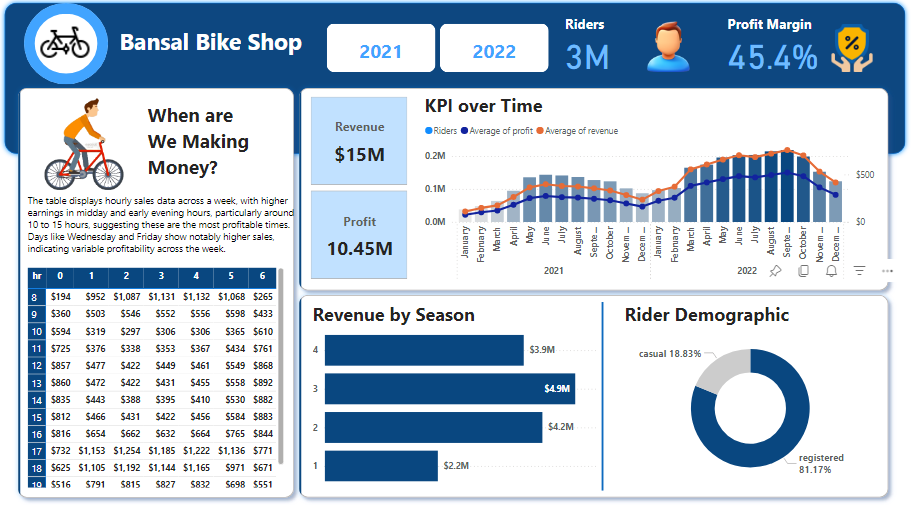

Layout of this report page (visuals, bound fields, positions):
{"tool":"powerbi","page":{"name":"Page 1","canvas":[1280,720],"ordinal":0},"visuals":[{"type":"shape","box":[0,0,1280,228.5],"z":0},{"type":"cardVisual","fields":{"Data":["Sum(Query1.riders)"]},"box":[10.1,110.9,421.6,609.8],"z":1000},{"type":"cardVisual","fields":{"Data":["Sum(Query1.riders)"]},"box":[404.6,110.9,861.1,318.2],"z":2000},{"type":"cardVisual","fields":{"Data":["Sum(Query1.riders)"]},"box":[404.6,401.8,861.1,318.2],"z":3000},{"type":"cardVisual","fields":{"Data":["Sum(Query1.riders)"]},"box":[20.2,110.9,207.4,180],"z":4000},{"type":"pivotTable","fields":{"Rows":["Query1.hr"],"Values":["Avg(Query1.revenue)"],"Columns":["Query1.weekday"]},"box":[35.3,374.6,369.6,319.2],"z":5000},{"type":"textbox","box":[203.3,141.1,201.6,119.3],"z":6000},{"type":"textbox","box":[35.3,270.4,396.4,104.1],"z":7000},{"type":"lineClusteredColumnComboChart","title":"KPI over Time","fields":{"Category":["Query1.dteday.Variation.Date Hierarchy.Year","Query1.dteday.Variation.Date Hierarchy.Month","Query1.dteday.Variation.Date Hierarchy.Day"],"Y":["Sum(Query1.riders)"],"Y2":["Avg(Query1.profit)","Avg(Query1.revenue)"]},"box":[593,134.4,643.4,272.1],"z":8000},{"type":"clusteredBarChart","title":"Revenue by Season","fields":{"Category":["Query1.season"],"Y":["Sum(Query1.revenue)"]},"box":[435.1,428.3,409.9,265.4],"z":9000},{"type":"donutChart","title":"Rider Demographic","fields":{"Y":["Sum(Query1.riders)"],"Category":["Query1.rider_type"]},"box":[873.5,428.3,362.8,265.4],"z":10000},{"type":"shape","box":[821.4,428.3,52.1,265.4],"z":11000},{"type":"cardVisual","title":"KPI over Time","fields":{"Data":["Sum(Query1.revenue)","Sum(Query1.profit)"]},"box":[431.7,134.4,146.1,267.1],"z":12000},{"type":"cardVisual","fields":{"Data":["Sum(Query1.riders)","Query1.Profit_Margin"]},"box":[777.7,8.4,458.6,102.5],"z":13000},{"type":"image","box":[1147.3,28.6,100.8,87.3],"z":14000},{"type":"shape","box":[35.3,8.4,117.6,114.2],"z":15000},{"type":"image","box":[28.6,23.5,129.3,79],"z":16000},{"type":"textbox","box":[157.9,33.6,277.2,58.8],"z":17000},{"type":"advancedSlicerVisual","title":"Year","fields":{"Values":["Query1.Year"]},"box":[455.2,31.9,322.5,79],"z":18000}]}

Visuals, with their boxes in screenshot pixels (x1, y1, x2, y2), scaled from the page's 1280x720 canvas onto the 912x505 screenshot:
shape: [left=0, top=0, right=911, bottom=160]
cardVisual - Sum(Query1.riders): [left=7, top=78, right=308, bottom=504]
cardVisual - Sum(Query1.riders): [left=288, top=78, right=902, bottom=301]
cardVisual - Sum(Query1.riders): [left=288, top=282, right=902, bottom=504]
cardVisual - Sum(Query1.riders): [left=14, top=78, right=162, bottom=204]
pivotTable - Query1.hr x Avg(Query1.revenue): [left=25, top=263, right=288, bottom=487]
textbox: [left=145, top=99, right=288, bottom=183]
textbox: [left=25, top=190, right=308, bottom=263]
"KPI over Time" lineClusteredColumnComboChart: [left=423, top=94, right=881, bottom=285]
"Revenue by Season" clusteredBarChart: [left=310, top=300, right=602, bottom=487]
"Rider Demographic" donutChart: [left=622, top=300, right=881, bottom=487]
shape: [left=585, top=300, right=622, bottom=487]
"KPI over Time" cardVisual: [left=308, top=94, right=412, bottom=282]
cardVisual - Sum(Query1.riders) x Query1.Profit_Margin: [left=554, top=6, right=881, bottom=78]
image: [left=817, top=20, right=889, bottom=81]
shape: [left=25, top=6, right=109, bottom=86]
image: [left=20, top=16, right=113, bottom=72]
textbox: [left=113, top=24, right=310, bottom=65]
"Year" advancedSlicerVisual: [left=324, top=22, right=554, bottom=78]
